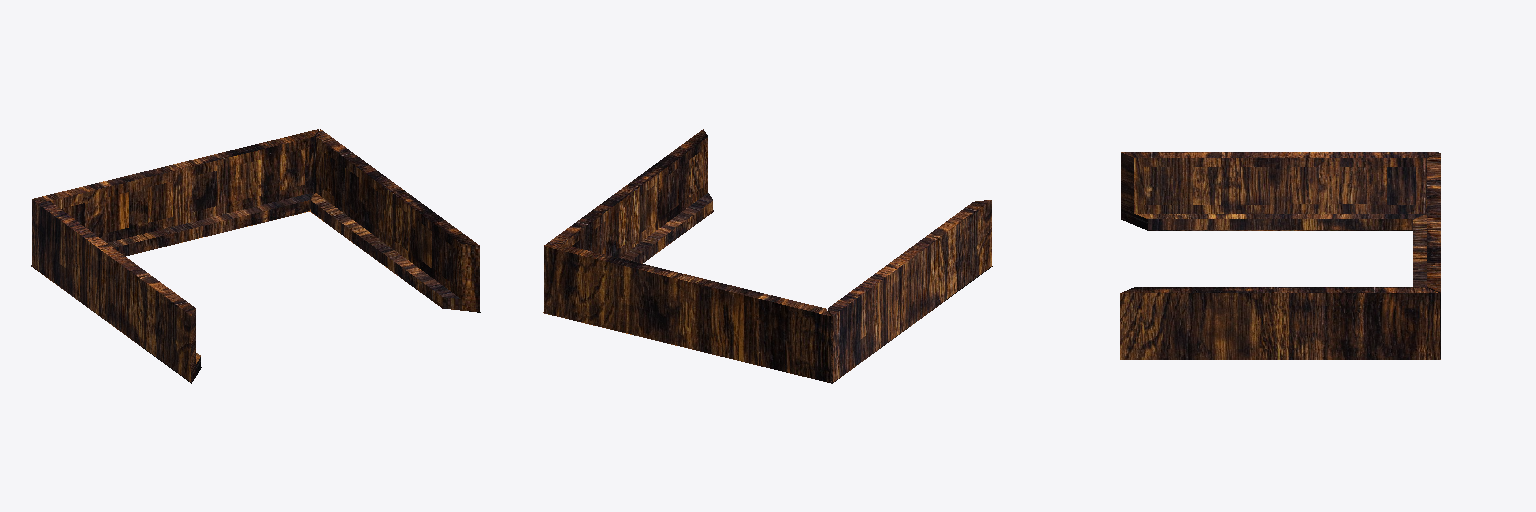
3 renders of one model, left to right at view 1: azimuth 30°, elevation 25°; view 2: azimuth 150°, elevation 25°; view 3: azimuth 270°, elevation 25°, orthographic.
Parts seen in each view (by area): view 1: mueble_Plano.010; view 2: mueble_Plano.010; view 3: mueble_Plano.010.
Boxes of the visible parts, x1=… form: mueble_Plano.010: x1=31, y1=129, x2=480, y2=383; mueble_Plano.010: x1=543, y1=129, x2=992, y2=383; mueble_Plano.010: x1=1120, y1=152, x2=1440, y2=359.
Bounding box in the file's own units: 8.2 × 1.8 × 7.9.
1 materials, 1 textured.